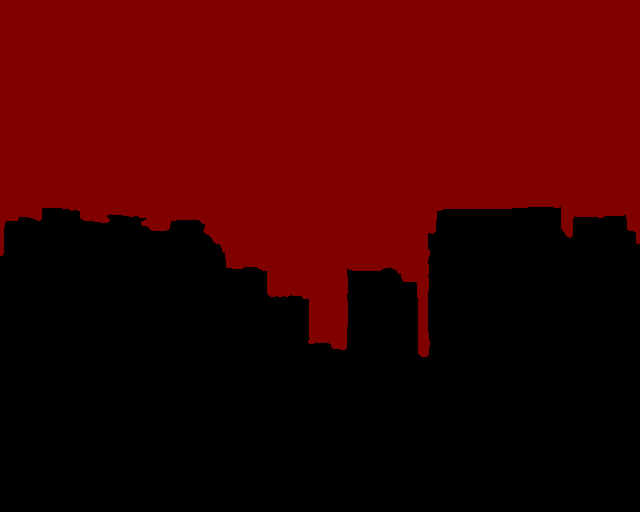Sky: (1, 1, 639, 356)
